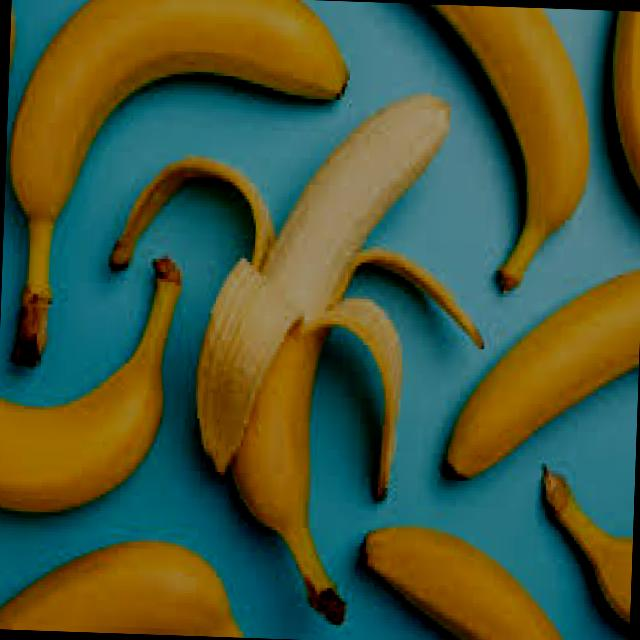Banana: (192, 84, 456, 630), (3, 0, 356, 368), (412, 4, 598, 297), (0, 247, 188, 520), (442, 257, 640, 491), (343, 522, 576, 640), (0, 537, 244, 637), (532, 457, 636, 626), (603, 10, 640, 207)
